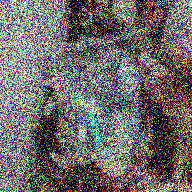러키펜정: (85, 98, 99, 116)
씨엠지세파클러캡슐: (76, 107, 88, 143)
에르도캡슐: (86, 115, 105, 149)
휴티렌정: (68, 95, 87, 110)
